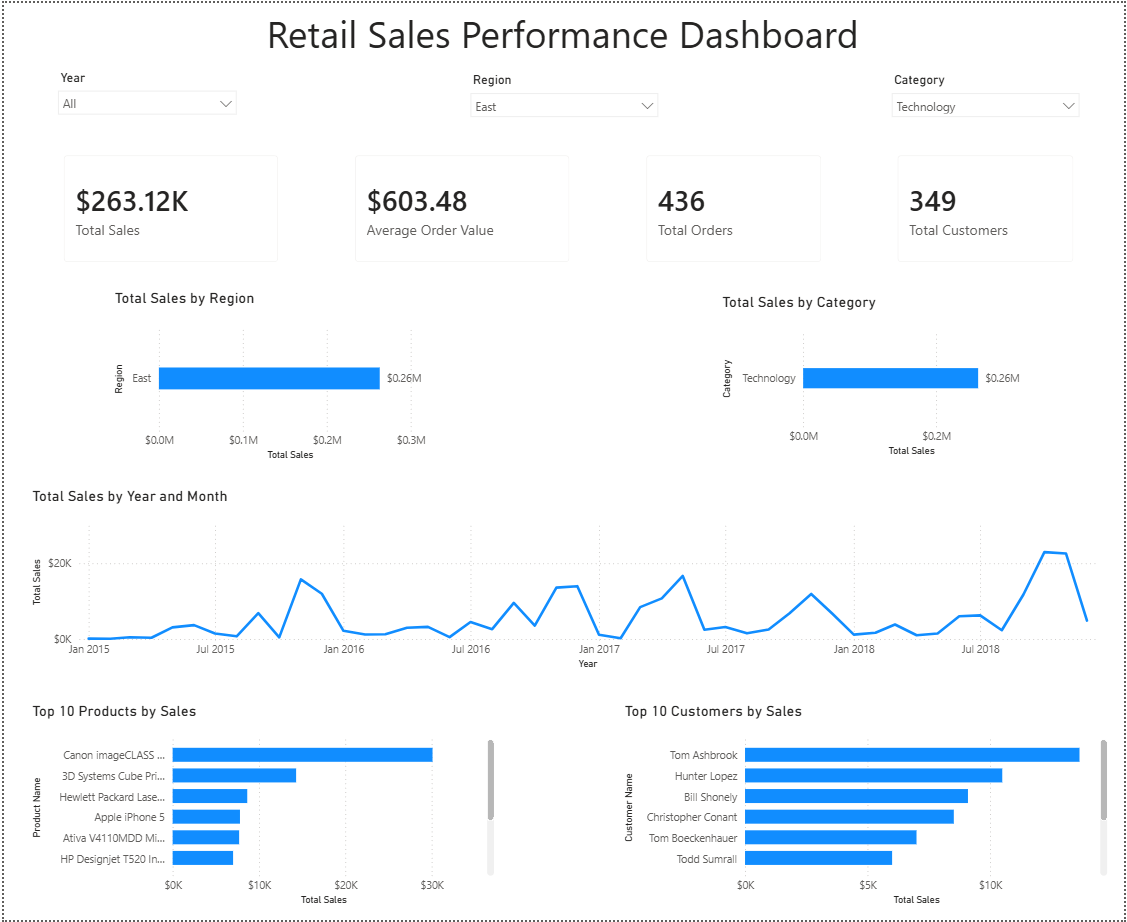

Layout of this report page (visuals, bound fields, positions):
{"tool":"powerbi","page":{"name":"Page 1","canvas":[1280,1050],"ordinal":0},"visuals":[{"type":"cardVisual","fields":{"Data":["retail_sales_cleaned.Total Sales"]},"box":[51.7,157,279.6,156.2],"z":0},{"type":"textbox","box":[275.6,0,725.9,93.2],"z":1000},{"type":"cardVisual","fields":{"Data":["retail_sales_cleaned.Average Order Value"]},"box":[384.2,157,279.6,156.2],"z":2000},{"type":"cardVisual","fields":{"Data":["retail_sales_cleaned.Total Orders"]},"box":[716.7,157,234.9,156.2],"z":3000},{"type":"cardVisual","fields":{"Data":["retail_sales_cleaned.Total Customers"]},"box":[1004.6,157,235,156],"z":4000},{"type":"clusteredBarChart","fields":{"Category":["retail_sales_cleaned.Region"],"Y":["retail_sales_cleaned.Total Sales"]},"box":[120.8,326.7,378,200.8],"z":5000},{"type":"clusteredBarChart","fields":{"Y":["retail_sales_cleaned.Total Sales"],"Category":["retail_sales_cleaned.Category"]},"box":[815.1,331.3,367.5,191.6],"z":6000},{"type":"lineChart","fields":{"Y":["retail_sales_cleaned.Total Sales"],"Category":["retail_sales_cleaned.Order Date.Variation.Date Hierarchy.Year","retail_sales_cleaned.Order Date.Variation.Date Hierarchy.Month"]},"box":[27.6,552.5,1237.8,213.9],"z":7000},{"type":"clusteredBarChart","title":"Top 10 Products by Sales","fields":{"Category":["retail_sales_cleaned.Product Name"],"Y":["retail_sales_cleaned.Total Sales"]},"box":[27.6,799.2,538.2,237.6],"z":8000},{"type":"clusteredBarChart","title":"Top 10 Customers by Sales","fields":{"Y":["retail_sales_cleaned.Total Sales"],"Category":["retail_sales_cleaned.Customer Name"]},"box":[704.9,799.2,561.8,237.6],"z":9000},{"type":"slicer","fields":{"Values":["retail_sales_cleaned.Order Date.Variation.Date Hierarchy.Year"]},"box":[51.2,70.9,224.4,60.4],"z":9001},{"type":"slicer","fields":{"Values":["retail_sales_cleaned.Region"]},"box":[522.4,74.8,234.9,56.4],"z":9002},{"type":"slicer","fields":{"Values":["retail_sales_cleaned.Category"]},"box":[1004.1,74.8,234.9,56.4],"z":9003}]}

Visuals, with their boxes in screenshot pixels (x1, y1, x2, y2), scaled from the page's 1280x1050 canvas onto the 1127x922 screenshot:
cardVisual - retail_sales_cleaned.Total Sales: left=46, top=138, right=292, bottom=275
textbox: left=243, top=0, right=882, bottom=82
cardVisual - retail_sales_cleaned.Average Order Value: left=338, top=138, right=584, bottom=275
cardVisual - retail_sales_cleaned.Total Orders: left=631, top=138, right=838, bottom=275
cardVisual - retail_sales_cleaned.Total Customers: left=885, top=138, right=1091, bottom=275
clusteredBarChart - retail_sales_cleaned.Region x retail_sales_cleaned.Total Sales: left=106, top=287, right=439, bottom=463
clusteredBarChart - retail_sales_cleaned.Total Sales x retail_sales_cleaned.Category: left=718, top=291, right=1041, bottom=459
lineChart - retail_sales_cleaned.Total Sales x retail_sales_cleaned.Order Date.Variation.Date Hierarchy.Year: left=24, top=485, right=1114, bottom=673
"Top 10 Products by Sales" clusteredBarChart: left=24, top=702, right=498, bottom=910
"Top 10 Customers by Sales" clusteredBarChart: left=621, top=702, right=1115, bottom=910
slicer - retail_sales_cleaned.Order Date.Variation.Date Hierarchy.Year: left=45, top=62, right=243, bottom=115
slicer - retail_sales_cleaned.Region: left=460, top=66, right=667, bottom=115
slicer - retail_sales_cleaned.Category: left=884, top=66, right=1091, bottom=115
